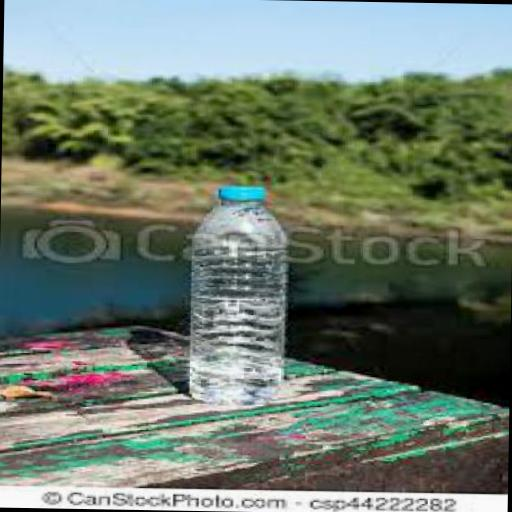plastic: (181, 184, 284, 406), (215, 180, 258, 202)
